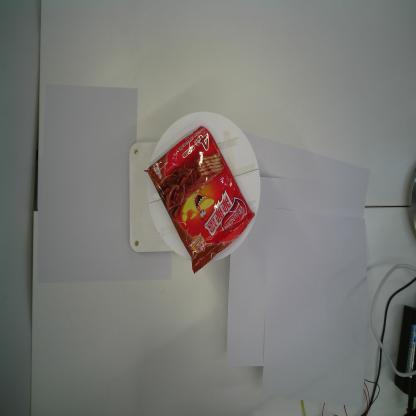Dessert: (144, 124, 256, 276)
